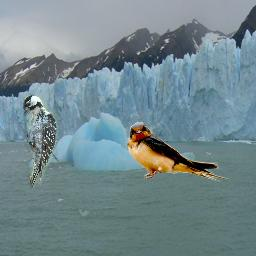Swallow: (126, 122, 230, 185)
Woodpecker: (23, 95, 58, 188)
